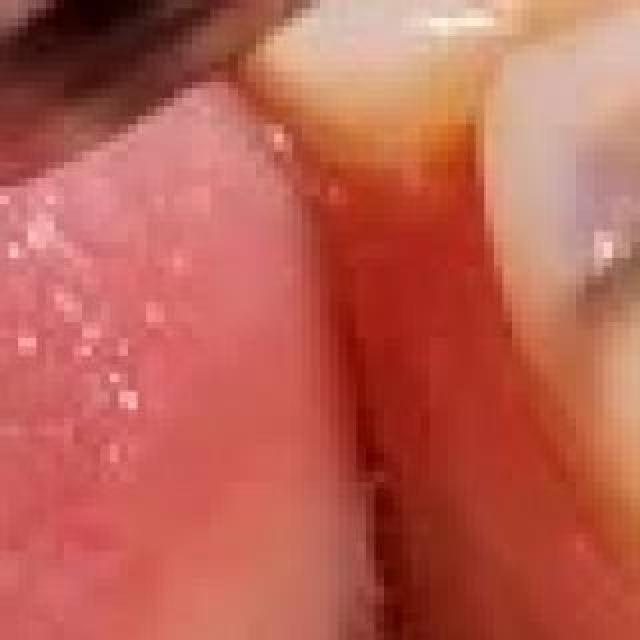cavities: (560, 0, 640, 410)
